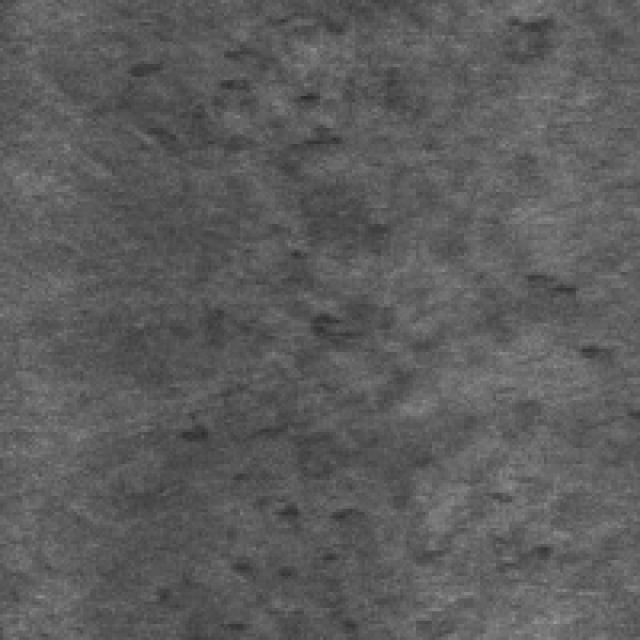rolled-in_scale: (166, 400, 397, 637), (198, 32, 342, 243)
